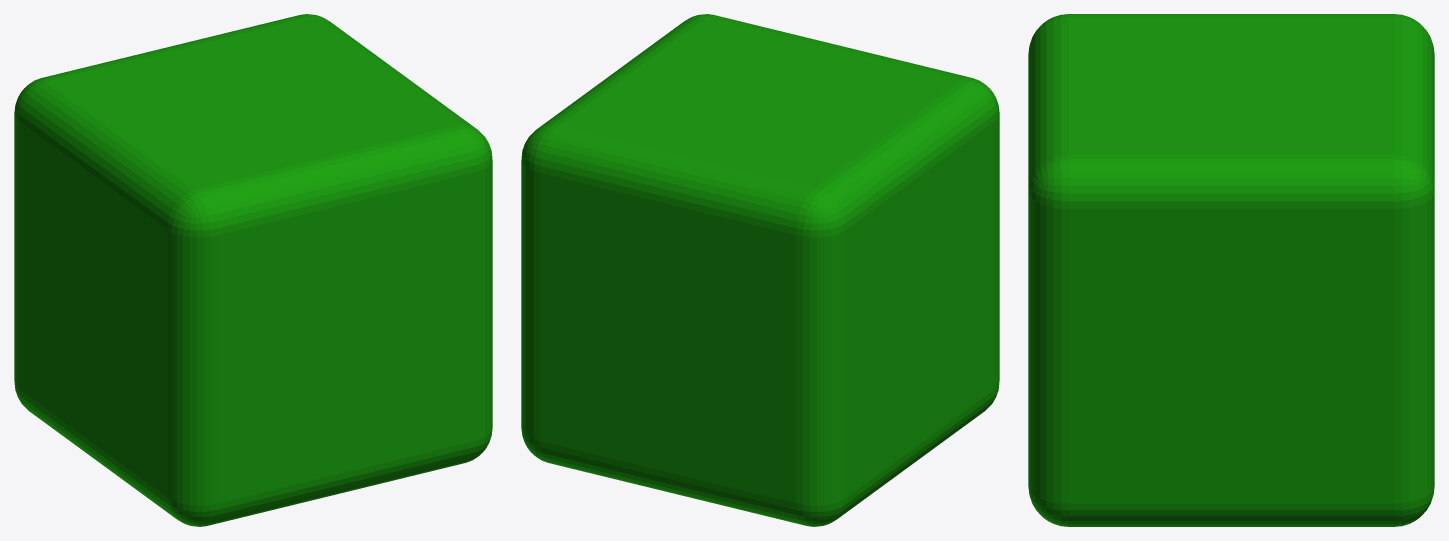
File: tile_plains.fbx
3 views of the same model, side by side, from view 1: azimuth 30°, elevation 25°; view 2: azimuth 150°, elevation 25°; view 3: azimuth 270°, elevation 25° (orthographic). The views are drawn at different scales.
Visible parts, largest first — view 1: TilePlains; view 2: TilePlains; view 3: TilePlains.
Boxes of the visible parts, bbox=[...] form: TilePlains: bbox=[14, 14, 492, 526]; TilePlains: bbox=[521, 14, 999, 526]; TilePlains: bbox=[1028, 14, 1434, 526].
Bounding box in the file's own units: 1 × 1 × 1.
